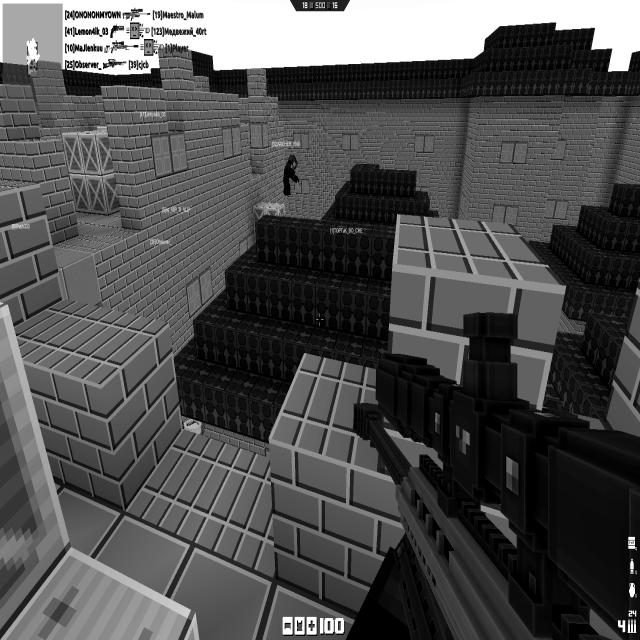Head: (288, 154, 298, 168)
Player: (282, 153, 300, 195)
